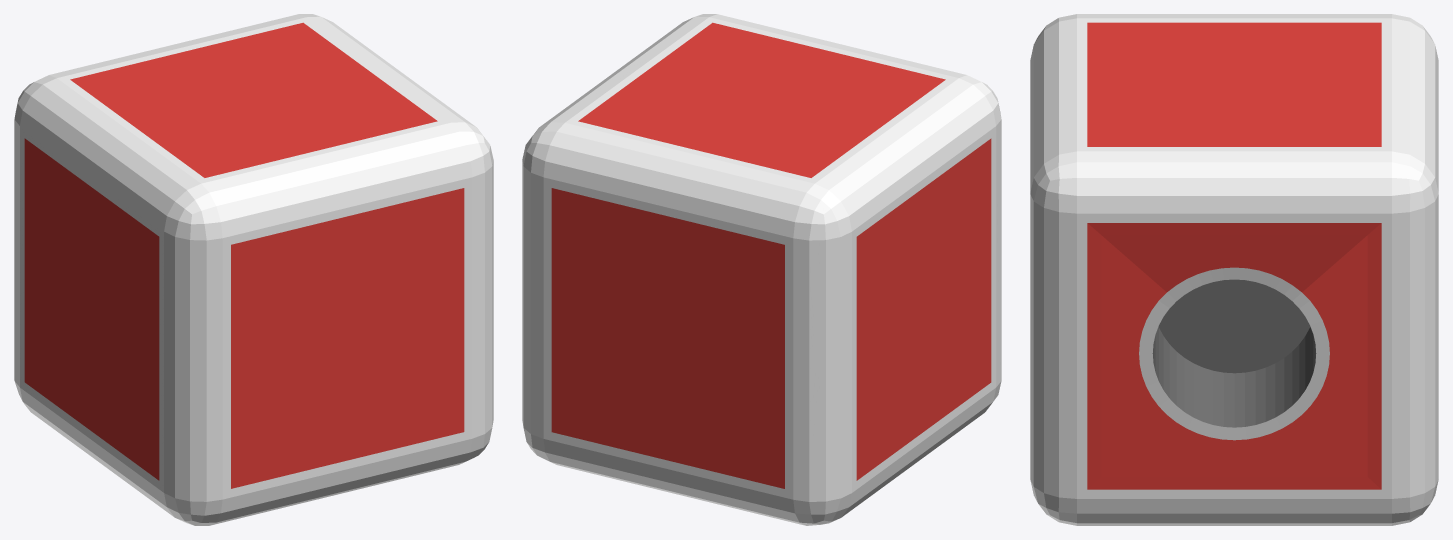
File: DrillSlot (2).fbx
3 views of the same model, side by side, from view 1: azimuth 30°, elevation 25°; view 2: azimuth 150°, elevation 25°; view 3: azimuth 270°, elevation 25° (orthographic). The views are drawn at different scales.
Visible parts, largest first — view 1: DrillSlot; view 2: DrillSlot; view 3: DrillSlot.
Part boxes in pixels (left/top/right/bottom): DrillSlot: left=14, top=14, right=493, bottom=525; DrillSlot: left=522, top=14, right=1001, bottom=525; DrillSlot: left=1030, top=14, right=1438, bottom=525.
Size of the model in its own units: 2 by 2 by 2.
